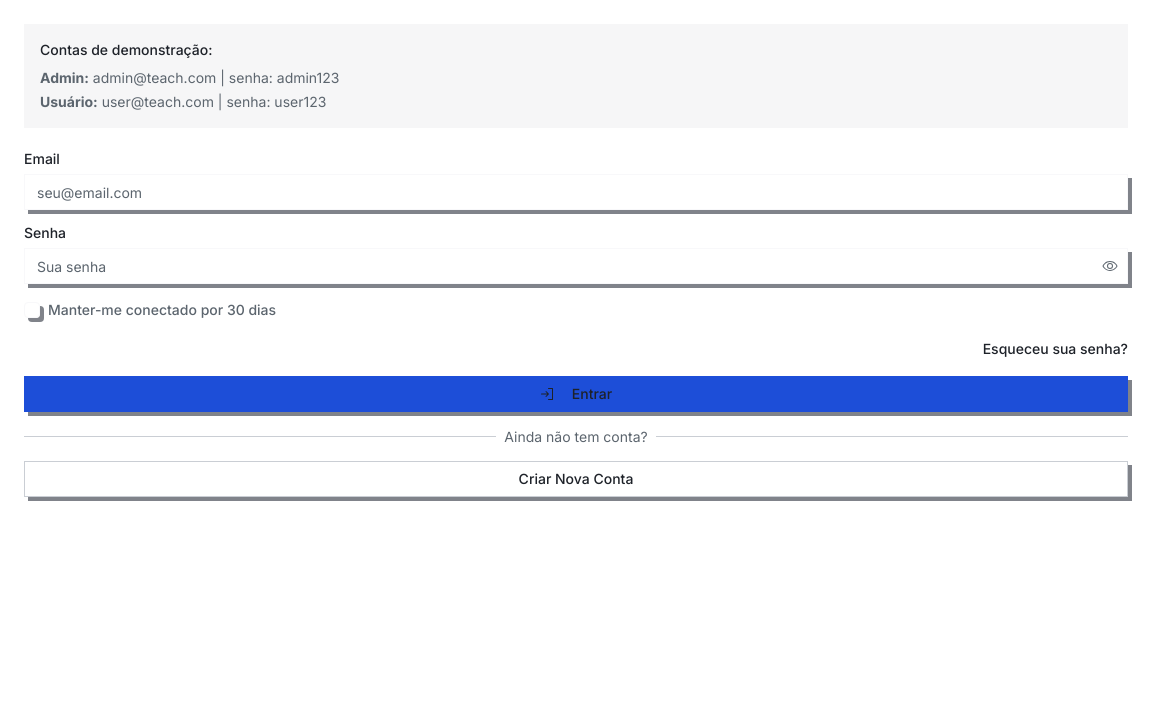
Test: LoginForm › clears errors when user starts typing
The image size is (1152, 720).
Note: Trigger validation error
Click the button "Entrar". click: [576, 394]
box: x1=24 y1=376 x2=1128 y2=412
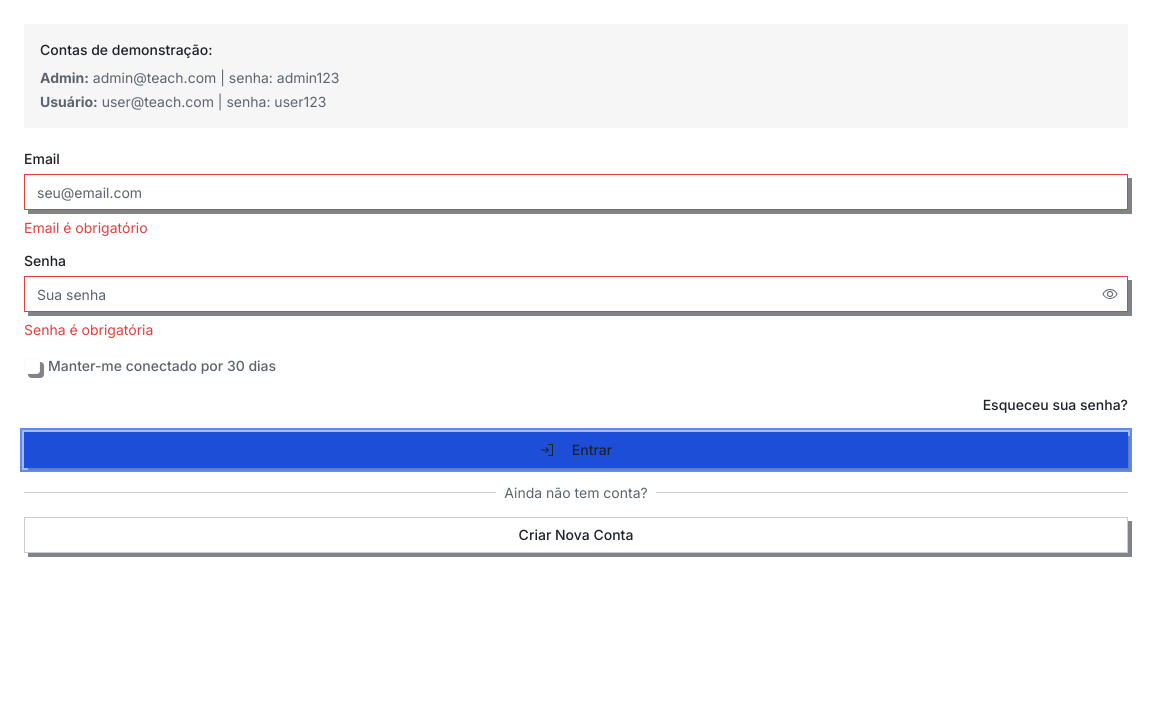
Check: the text "Email é obrigatório" is shown, box x1=24 y1=219 x2=148 y2=236
Note: Start typing should clear error
Type "t" into the field labelled "Email". click: [576, 192]
box: x1=24 y1=174 x2=1128 y2=210
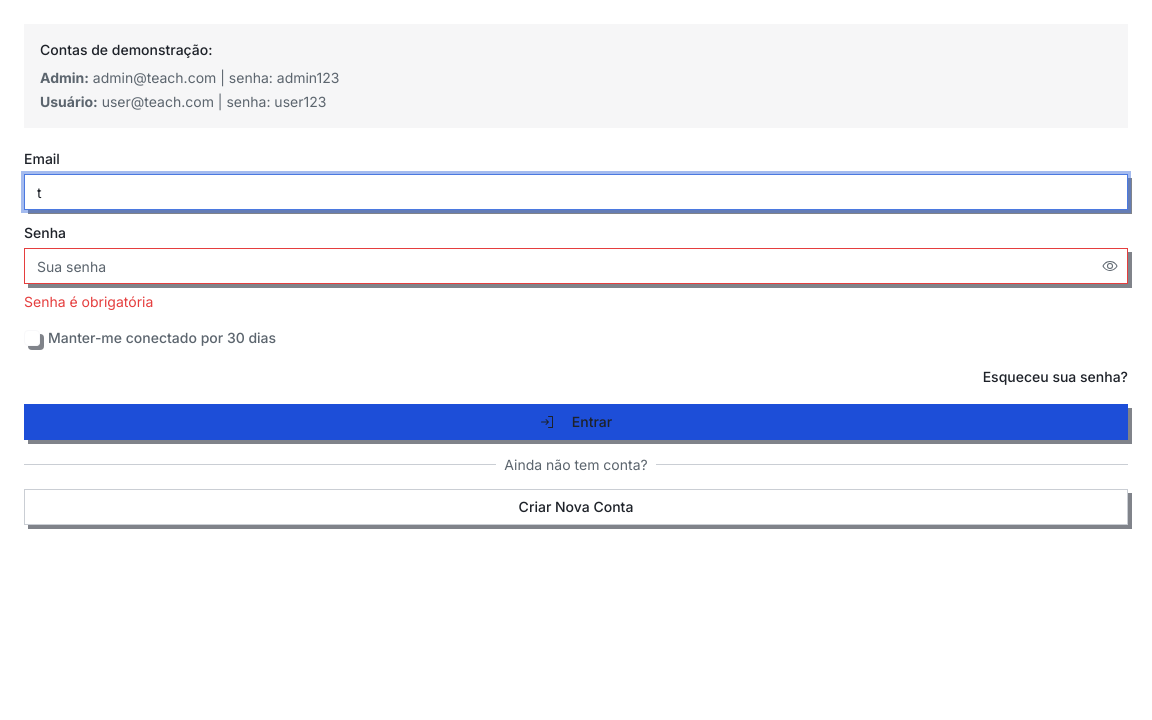
Check: the text "Email é obrigatório" is gone
